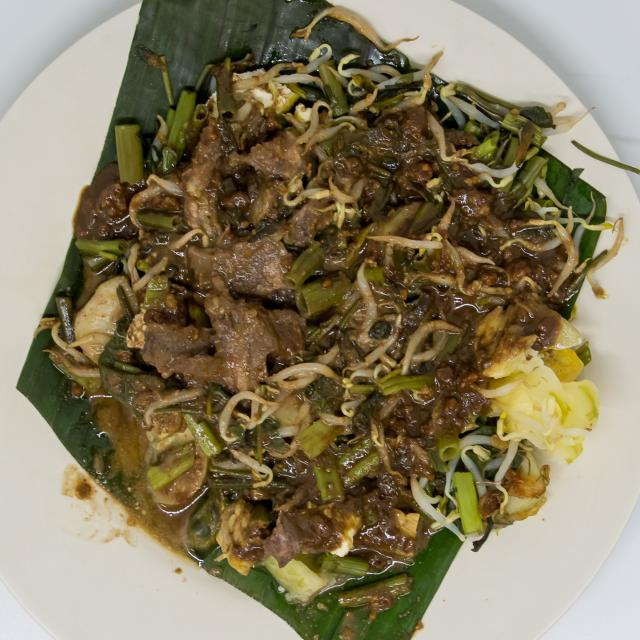Rujak-Cingur: (47, 43, 593, 574)
